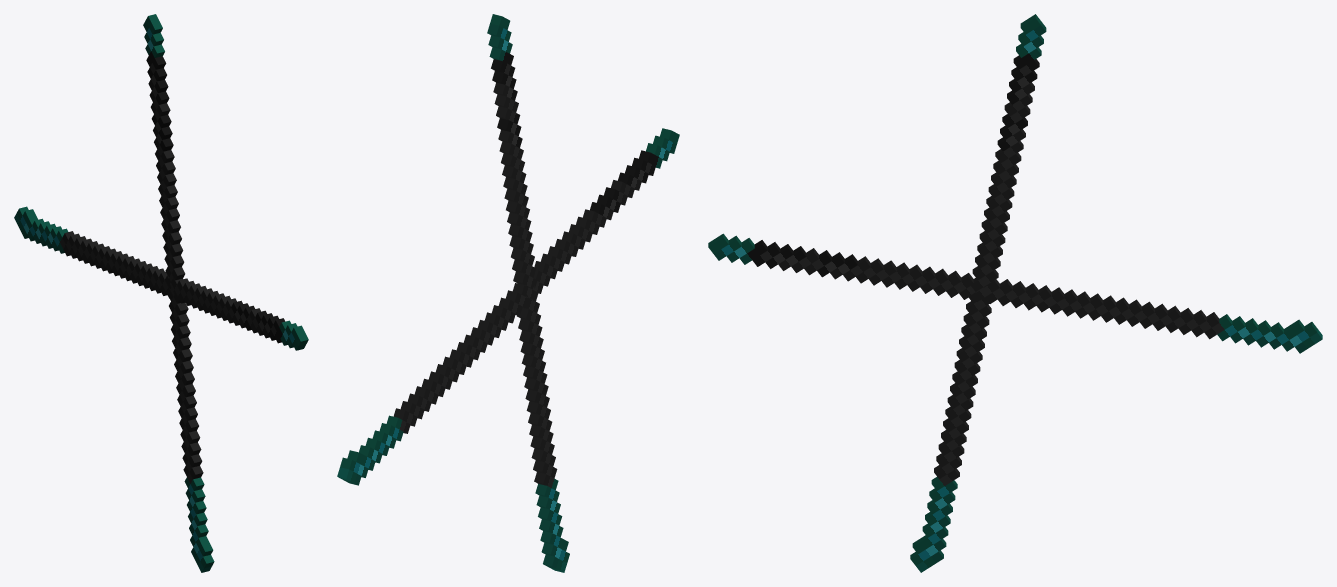
The model's file is myrmex_jungle_pike.glb.
The picture shows the model from 3 angles, left to right: view 1: azimuth 30°, elevation 25°; view 2: azimuth 150°, elevation 25°; view 3: azimuth 270°, elevation 25°; orthographic projection. The views are drawn at different scales.
Visible parts, largest first — view 1: off__Tool_L, main__Tool_R; view 2: off__Tool_L, main__Tool_R; view 3: main__Tool_R, off__Tool_L.
Part boxes in pixels (x1,y1,x2,y2): off__Tool_L: (143, 14, 214, 572); main__Tool_R: (14, 206, 308, 350); off__Tool_L: (487, 14, 569, 572); main__Tool_R: (337, 128, 679, 485); main__Tool_R: (708, 233, 1322, 353); off__Tool_L: (910, 14, 1046, 572).
Bounding box in the file's own units: 0.0625 × 3.87 × 3.88.
1 material, 1 textured.
